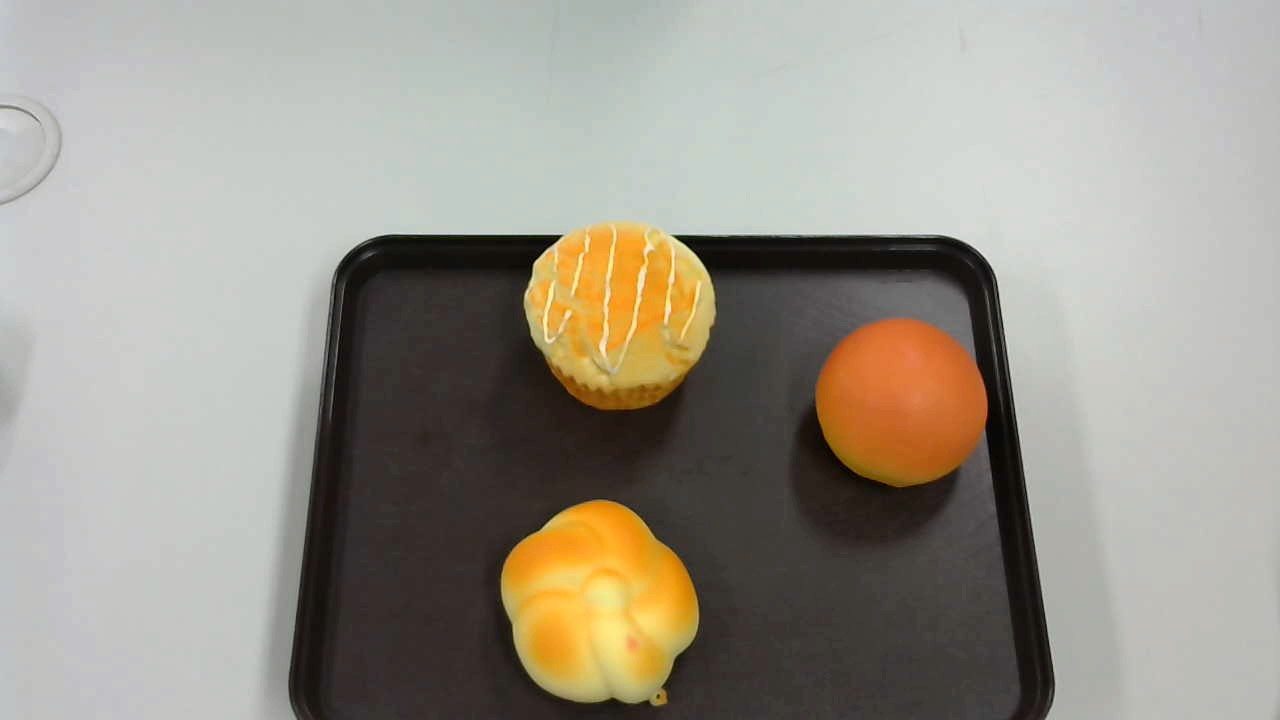bun: (815, 318, 988, 487)
cupcake: (521, 222, 717, 412)
twist bread: (500, 499, 698, 702)
